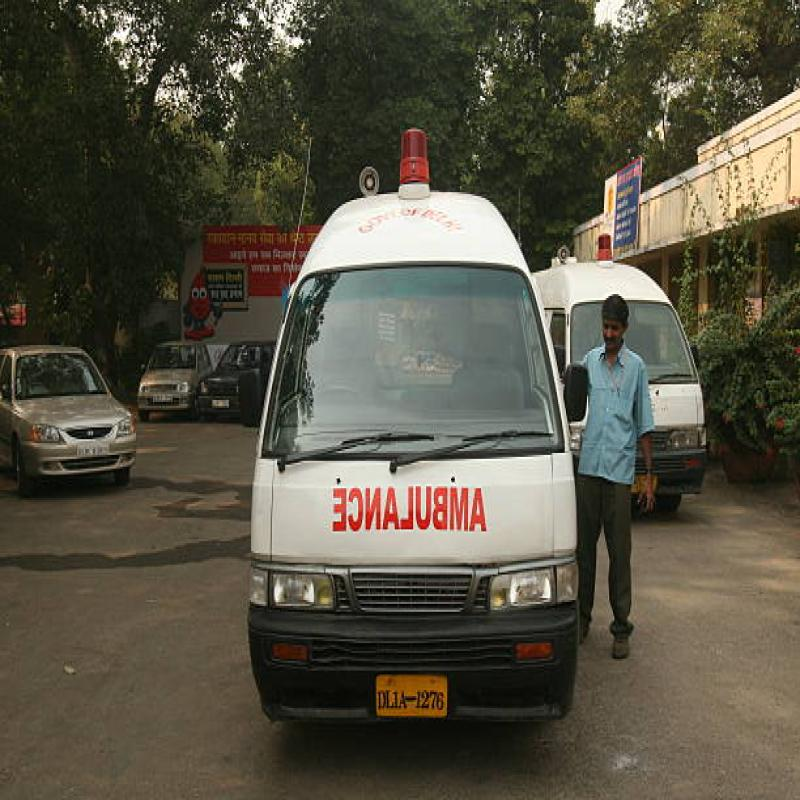ambulance: (234, 93, 591, 746)
